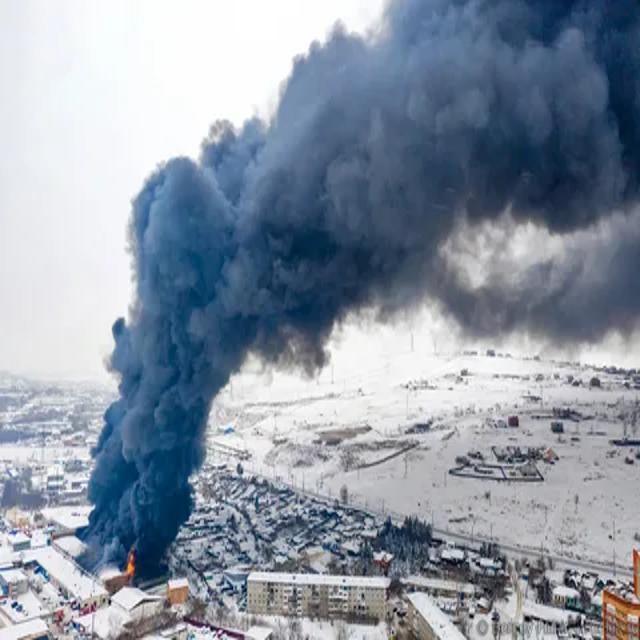Smoke: (85, 0, 640, 573)
